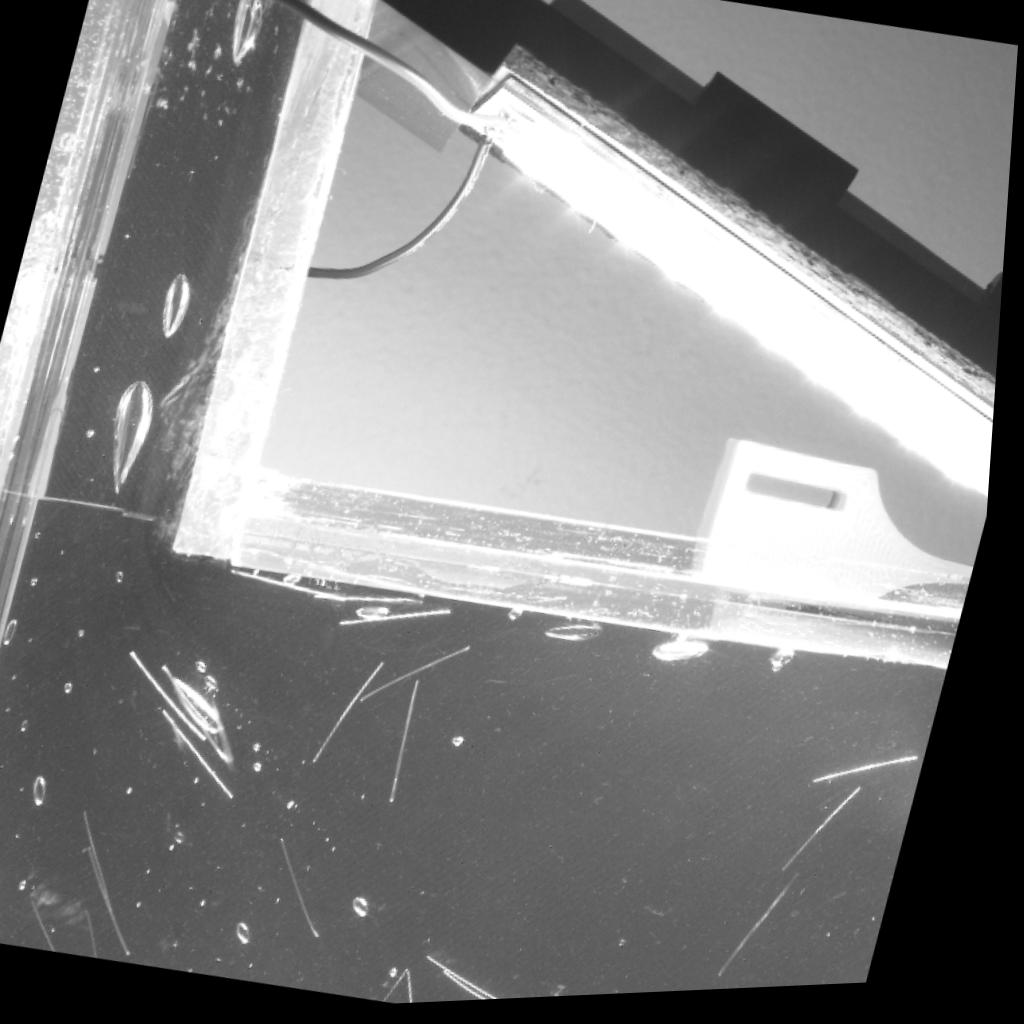Fiber: (320, 654, 403, 772), (726, 880, 812, 989), (134, 648, 220, 747), (164, 708, 250, 804), (791, 790, 881, 881), (367, 644, 486, 710), (288, 838, 343, 950), (96, 846, 148, 961), (235, 567, 359, 610), (89, 808, 131, 928), (397, 677, 434, 810), (820, 756, 934, 796), (436, 956, 519, 1004), (344, 607, 465, 631), (454, 970, 514, 1005), (39, 887, 71, 952), (322, 594, 434, 608), (392, 970, 427, 1007), (94, 905, 116, 960), (414, 968, 432, 1007)
